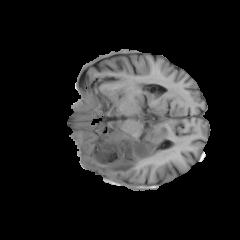glioma: (88, 129, 160, 175)
